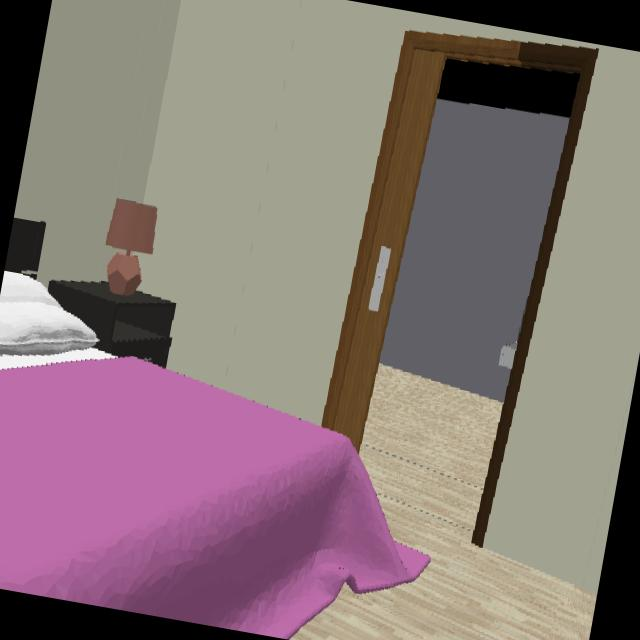bed: (0, 348, 431, 640)
lamp: (105, 199, 157, 297)
nighttable: (47, 282, 177, 365)
pillow: (0, 271, 98, 358)
